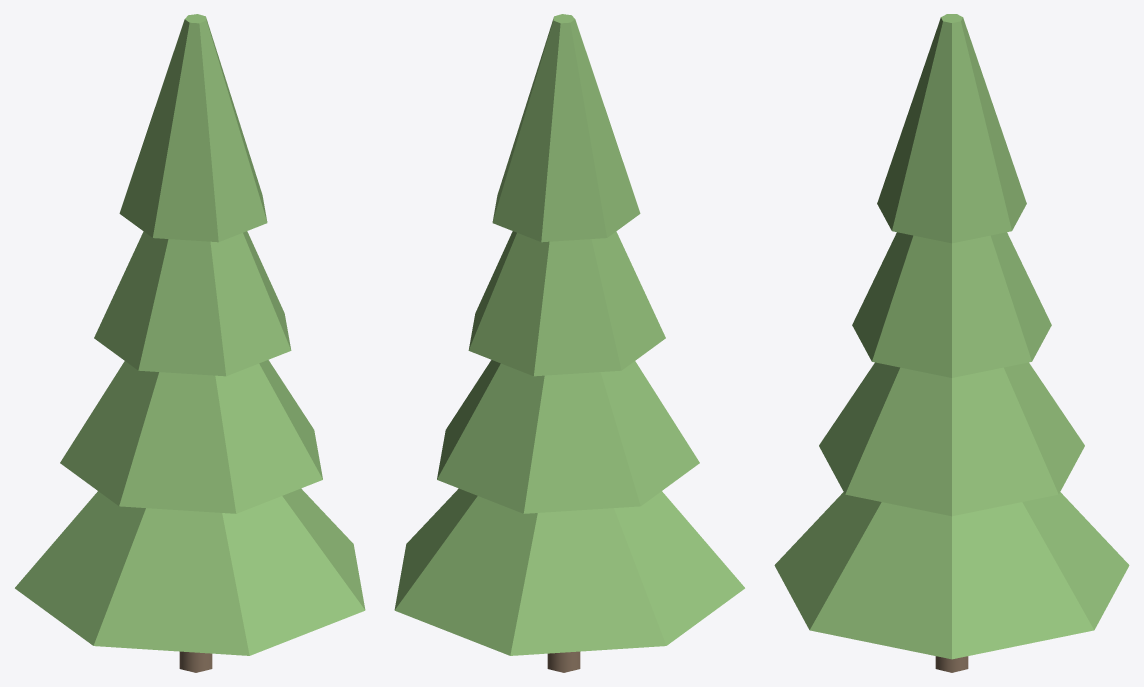
The model's file is tree_pine.glb.
3 views of the same model, side by side, from view 1: azimuth 30°, elevation 25°; view 2: azimuth 150°, elevation 25°; view 3: azimuth 270°, elevation 25° (orthographic).
Visible parts, largest first — view 1: tree_pine; view 2: tree_pine; view 3: tree_pine.
Part boxes in pixels (<box>): tree_pine: <box>15,14,365,672</box>; tree_pine: <box>394,14,744,672</box>; tree_pine: <box>774,14,1129,672</box>.
Size of the model in its own units: 4.56 by 9.4 by 4.68.
